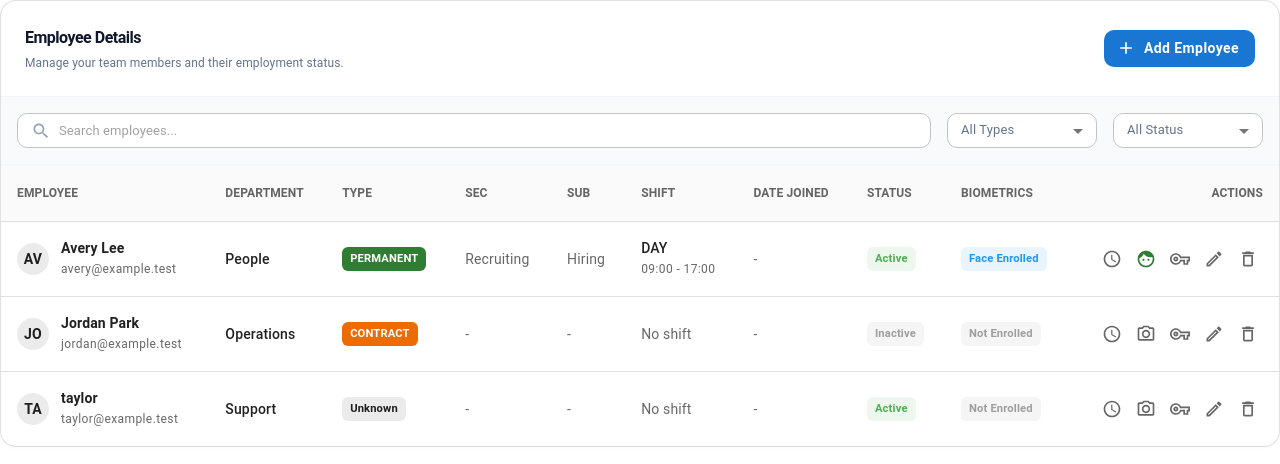
Test case: searches employees by name or email and applies employment/status filters
Expected: the text "Avery Lee" is shown, top-left (61, 240), bottom-right (124, 256)
Expected: the text "Jordan Park" is shown, top-left (61, 315), bottom-right (139, 331)
Type "jordan@" into the field with placeholder "Search employees..." at {"x": 495, "y": 131}, box top-left (59, 113), bottom-right (931, 148)
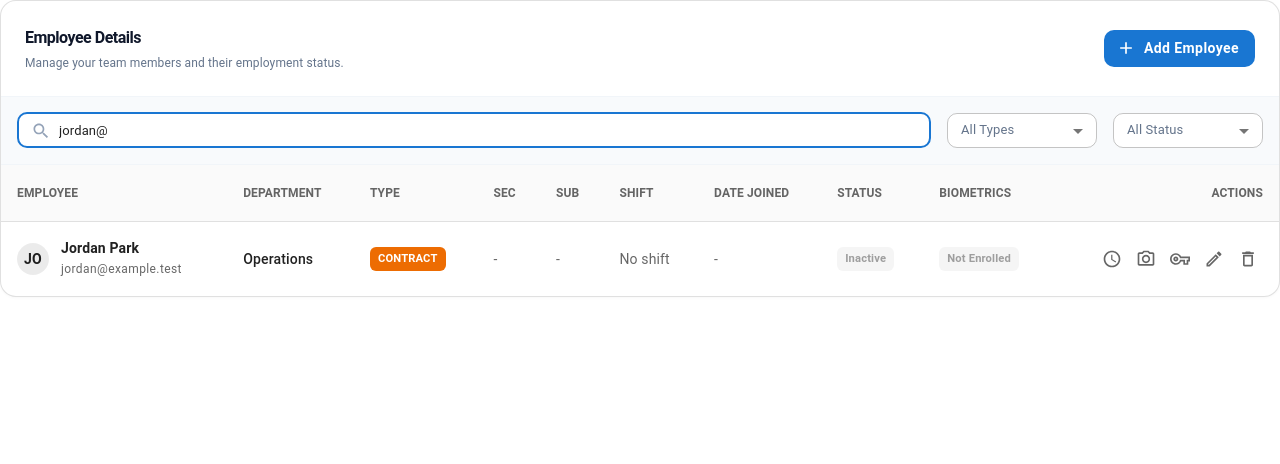
Expected: the text "Jordan Park" is shown, top-left (61, 240), bottom-right (139, 256)
Now the text "Avery Lee" is gone
Clear the field with placeholder "Search employees..." at {"x": 495, "y": 131}, box top-left (59, 113), bottom-right (931, 148)
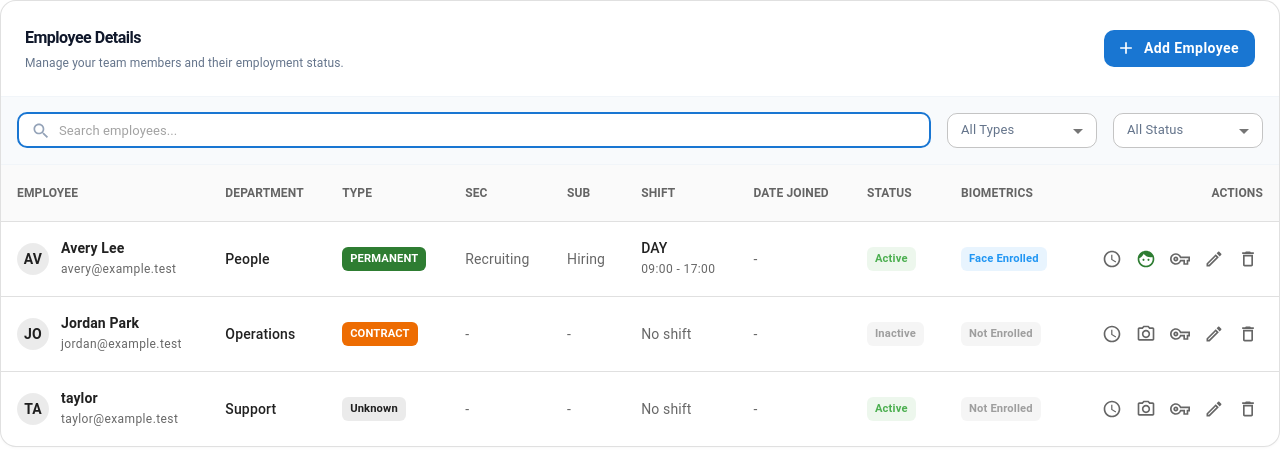
Click the dropdown labelled "All Types" at {"x": 988, "y": 130}, box top-left (961, 122), bottom-right (1014, 137)
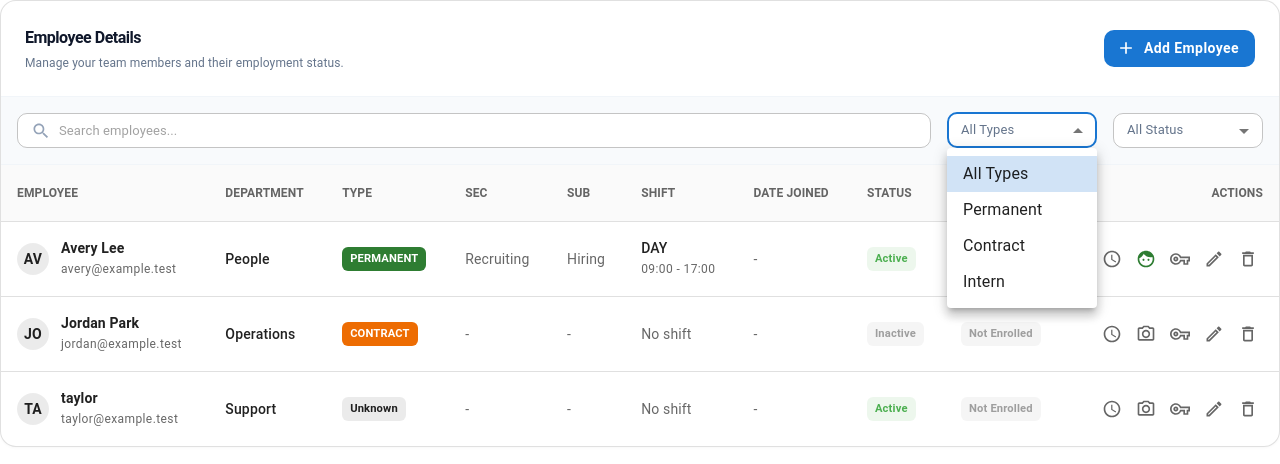
Click the option "Permanent" at {"x": 1003, "y": 210}, box top-left (963, 200), bottom-right (1042, 219)
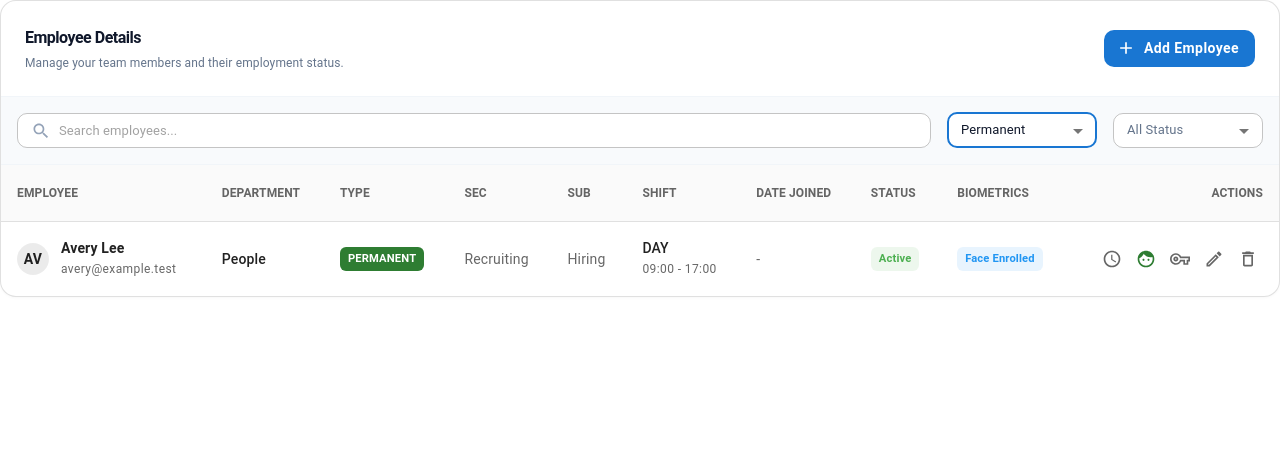
Now the text "Avery Lee" is shown, box top-left (61, 240), bottom-right (124, 256)
Now the text "DAY" is shown, box top-left (642, 240), bottom-right (669, 256)
Now the text "Jordan Park" is gone
